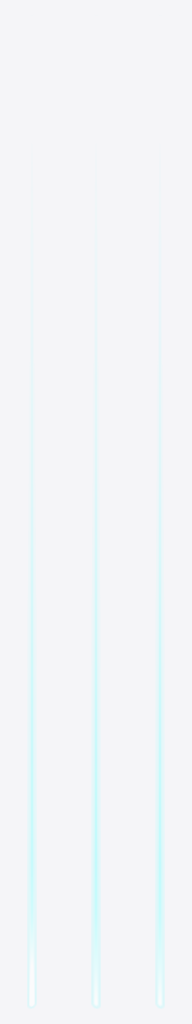
File: 物联网.gltf
The picture shows the model from 3 angles, left to right: view 1: azimuth 30°, elevation 25°; view 2: azimuth 150°, elevation 25°; view 3: azimuth 330°, elevation 25°; orthographic projection.
Parts seen in each view (by area): view 1: 线; view 2: 线; view 3: 线.
Part boxes in pixels (left/top/right/bottom): 线: left=27, top=384, right=36, bottom=1007; 线: left=91, top=384, right=100, bottom=1007; 线: left=155, top=384, right=164, bottom=1007.
Size of what is drawn, in the model's own units: 4 by 390 by 0.
Materials: 1 (1 with a texture image).
